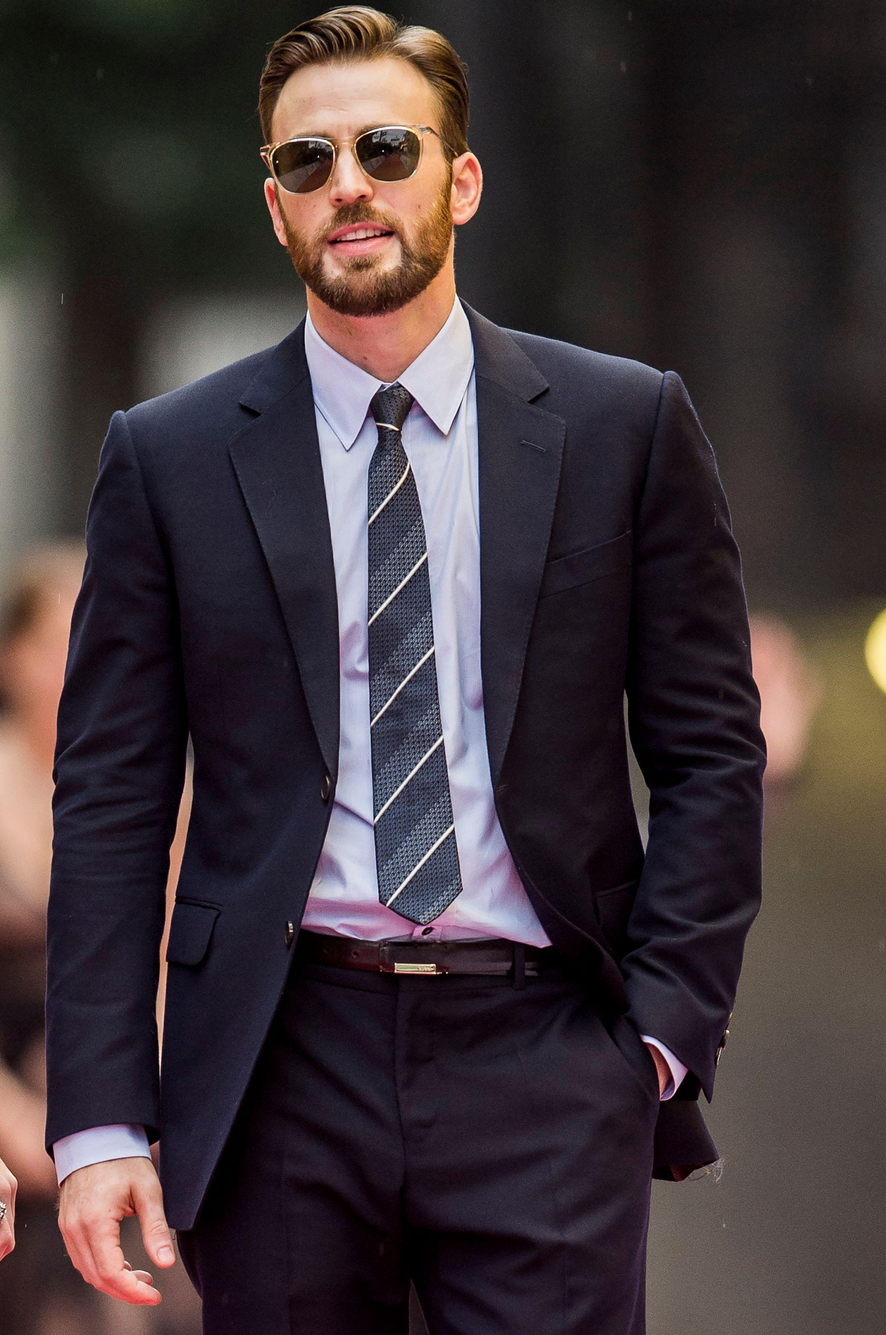sunglasses: (248, 111, 456, 217)
